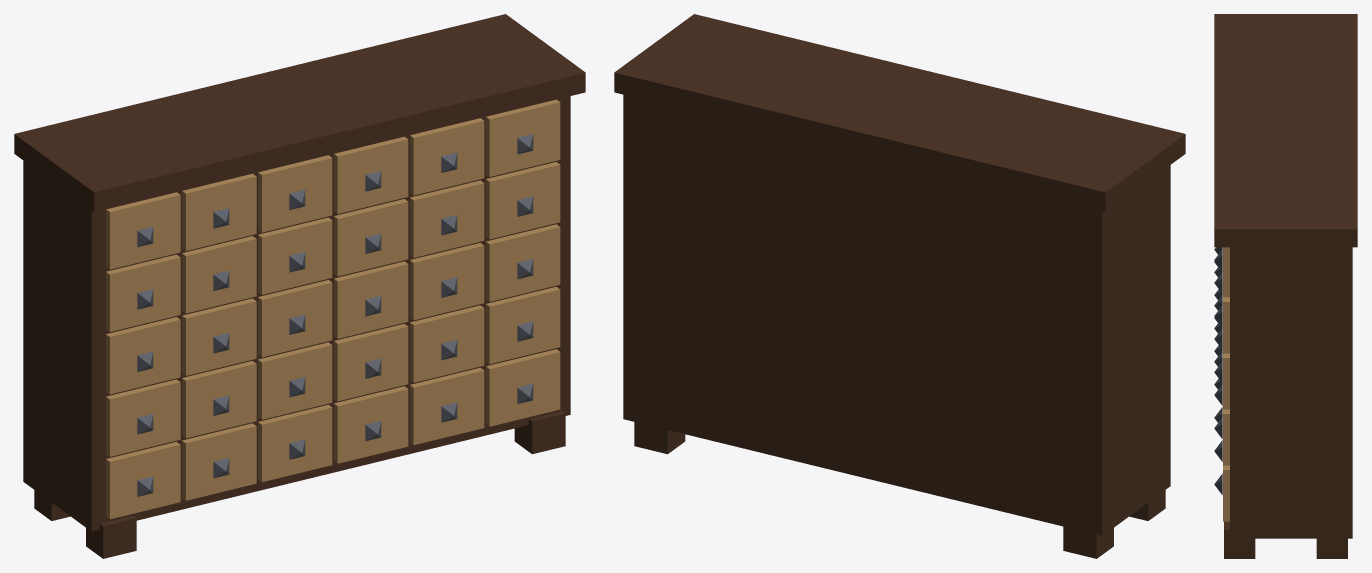
File: fn_drawers.glb
The picture shows the model from 3 angles, left to right: view 1: azimuth 30°, elevation 25°; view 2: azimuth 150°, elevation 25°; view 3: azimuth 270°, elevation 25°; orthographic projection. The views are drawn at different scales.
Visible parts, largest first — view 1: fn_drawers__wood_pine, fn_drawers__wood_dark, fn_drawers__metal; view 2: fn_drawers__wood_dark; view 3: fn_drawers__wood_dark, fn_drawers__wood_pine, fn_drawers__metal.
Part boxes in pixels (<box>): fn_drawers__wood_pine: <box>106,99,560,519</box>; fn_drawers__wood_dark: <box>14,14,585,558</box>; fn_drawers__metal: <box>137,134,533,496</box>; fn_drawers__wood_dark: <box>614,14,1185,558</box>; fn_drawers__wood_dark: <box>1214,14,1357,558</box>; fn_drawers__wood_pine: <box>1223,247,1229,521</box>; fn_drawers__metal: <box>1214,247,1222,494</box>.
Size of the model in its own units: 22 by 16 by 6.2.
